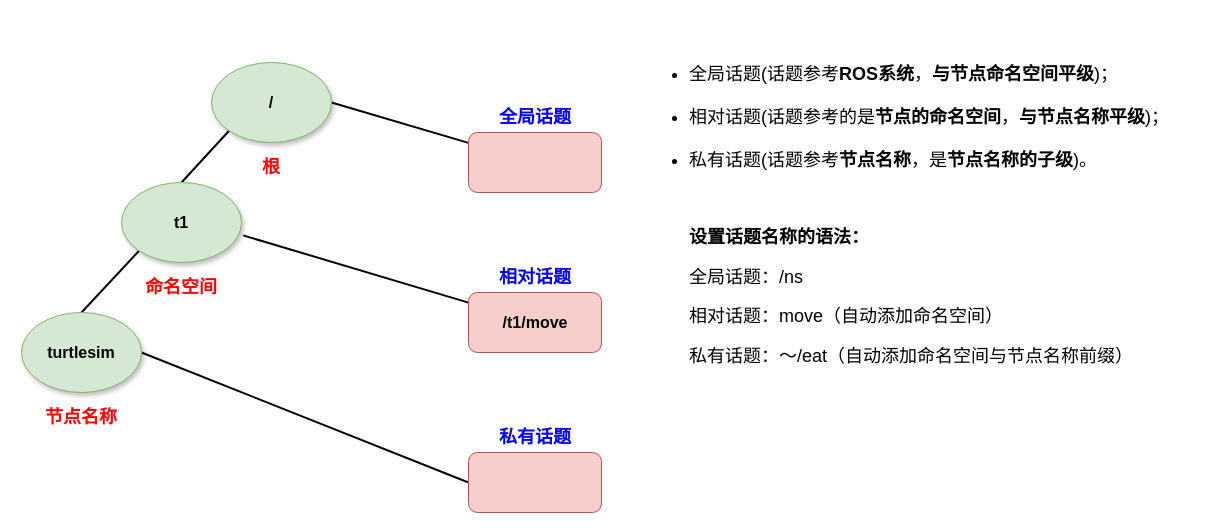
This 1225x530 diagram has some shape labels left out. Here are the shapes that lost their labels. From the top down, the centre of each, then its label:
the point at 535,162: /ns
the point at 535,482: /t1/turltesim/eat
